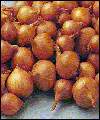onion: (70, 74, 99, 110), (55, 49, 81, 80), (31, 59, 56, 91)
